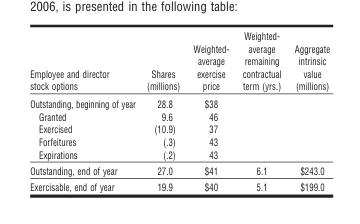table: (29, 28, 329, 192)
table column: (29, 28, 140, 192), (235, 28, 287, 192), (185, 28, 235, 192), (140, 28, 185, 192), (287, 28, 329, 192)
table column header: (29, 28, 329, 94)
table row: (29, 28, 329, 94), (29, 162, 329, 178), (29, 94, 329, 109), (29, 147, 329, 162), (29, 178, 329, 192), (29, 109, 329, 122), (29, 134, 329, 147), (29, 122, 329, 134)
